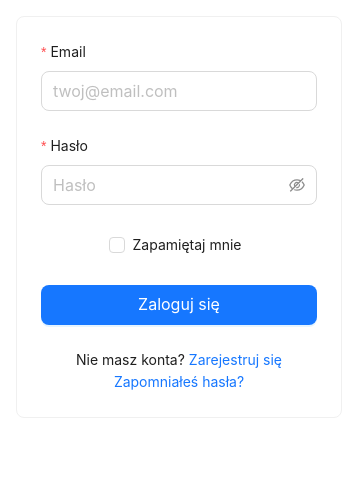
Test case: LoginPage › shows an error message on failed login
Type "wrong@example.com" into the field labelled "Email" at (179, 91), box [41,71,317,111]
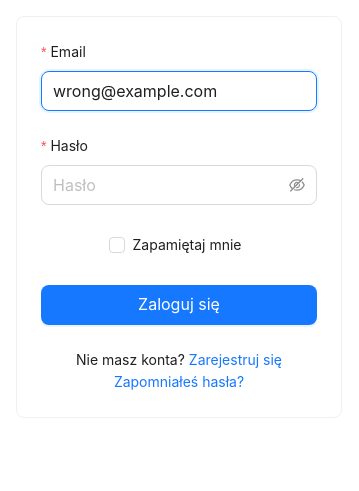
Type "wrongpassword" into the password field labelled "Hasło" at (169, 185), box [53,173,285,197]
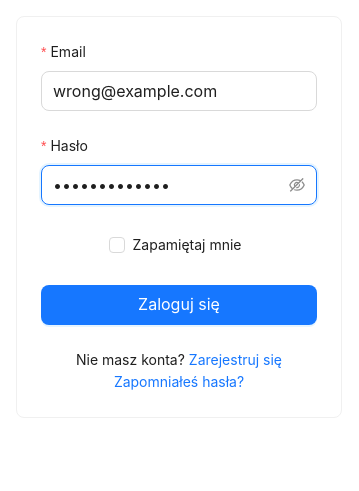
Click the button "Zaloguj się" at (179, 305), box [41,285,317,325]
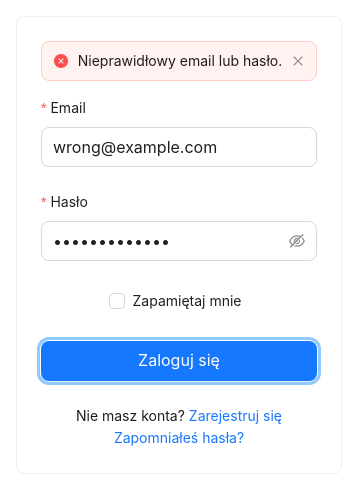
Check: the text "Nieprawidłowy email lub hasło." is shown, box [76,50,284,72]
